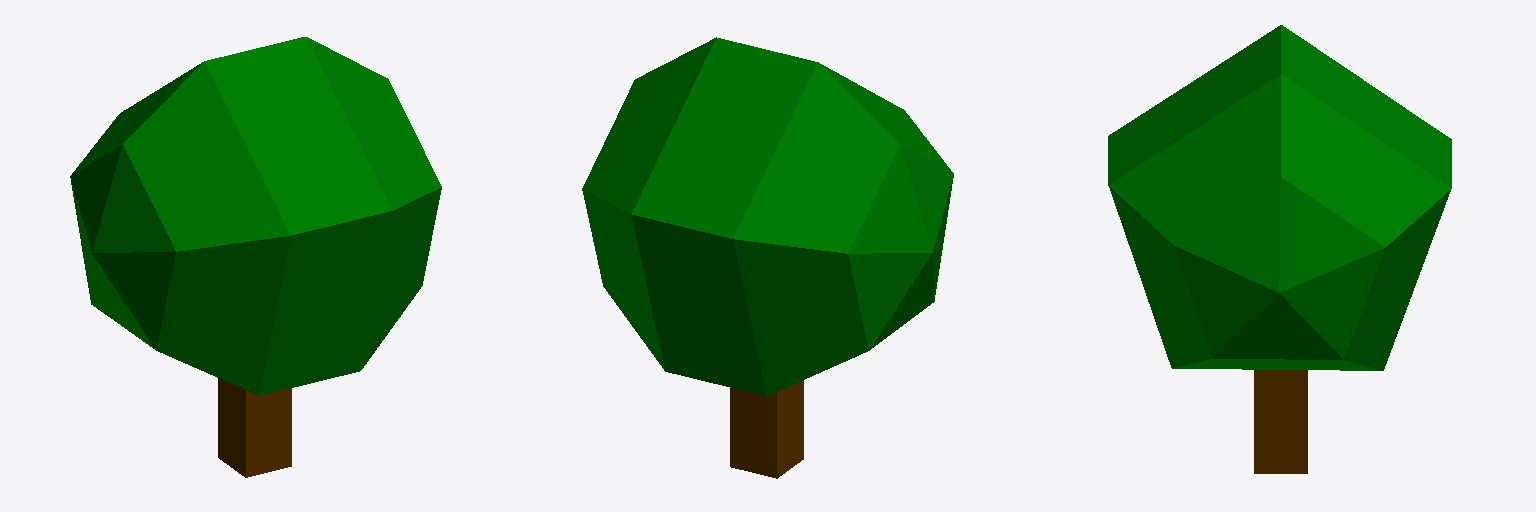
Rendered from appletree.lod0.obj.
The picture shows the model from 3 angles: view 1: azimuth 30°, elevation 25°; view 2: azimuth 150°, elevation 25°; view 3: azimuth 270°, elevation 25°; orthographic projection.
Parts seen in each view (by area): view 1: tree3:appletree_krone, tree3:appletree_stamm; view 2: tree3:appletree_krone, tree3:appletree_stamm; view 3: tree3:appletree_krone, tree3:appletree_stamm.
Part boxes in pixels (bbox=[...]): tree3:appletree_krone: bbox=[70, 37, 441, 395]; tree3:appletree_stamm: bbox=[218, 378, 291, 477]; tree3:appletree_krone: bbox=[582, 37, 953, 395]; tree3:appletree_stamm: bbox=[730, 380, 803, 478]; tree3:appletree_krone: bbox=[1108, 25, 1451, 370]; tree3:appletree_stamm: bbox=[1254, 370, 1307, 473].
Size of the model in its own units: 3.71 by 4.46 by 3.36.